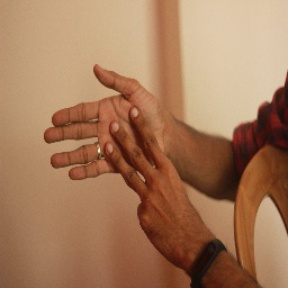M: (42, 61, 174, 200)
